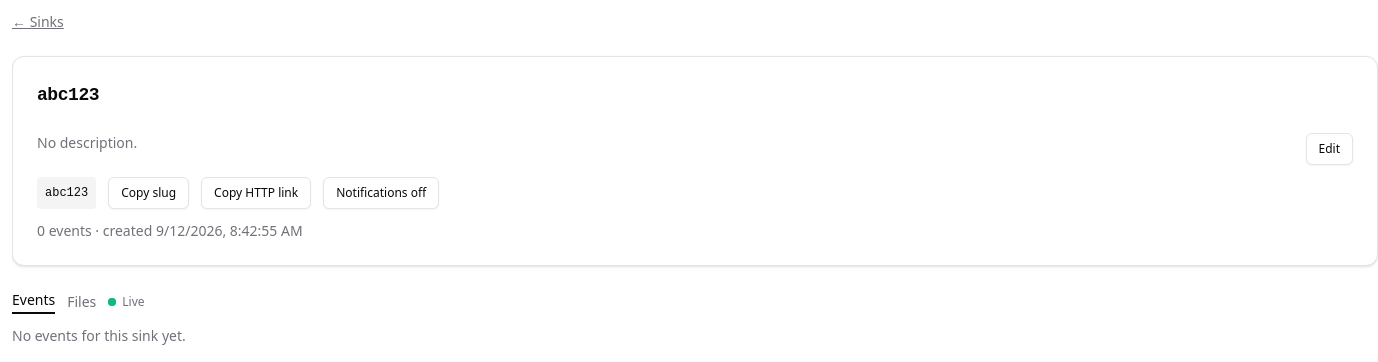
Test: SinkDetail › copies an HTTP link to the slug
The width and height of the screenshot is (1378, 362).
Click the button "Copy HTTP link": point(256, 193) [201,177,311,209]
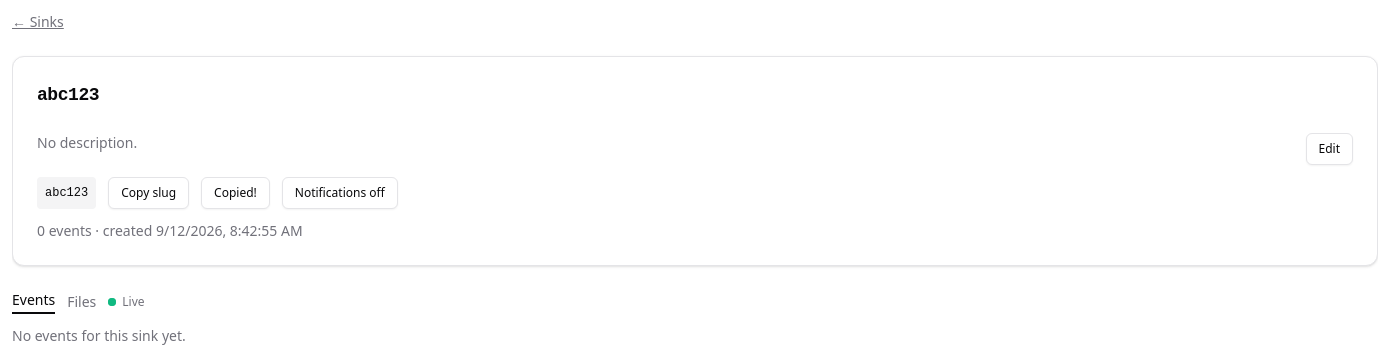
Expected: the button "Copied!" is shown, [201,177,270,209]
